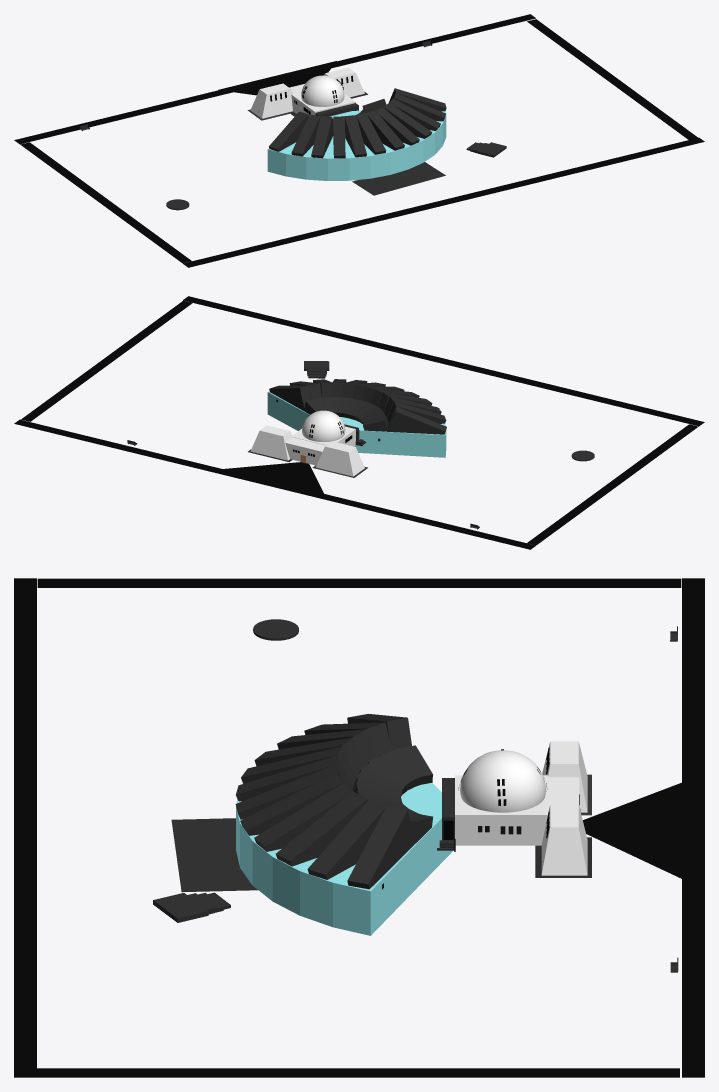
The model's file is asmundarsafn_cpy_to_test_4.obj.
The picture shows the model from 3 angles, top to bottom: view 1: azimuth 30°, elevation 25°; view 2: azimuth 150°, elevation 25°; view 3: azimuth 270°, elevation 25°; orthographic projection. The views are drawn at different scales.
Parts seen in each view (by area): view 1: syningarsalur, Plane.028, Plane.027, Plane.030, Plane.029, Plane.035, pavement, Sphere, h_hlid, Cube.033, Cube.039, Cube.030 (+11 smaller); view 2: Plane.028, syningarsalur, Plane.027, pavement, Plane.030, Plane.029, Cube.033, h_hlid, Sphere, v_hlid, Cube.031, adaldyr (+6 smaller); view 3: Plane.028, syningarsalur, Plane.027, pavement, Plane.030, Plane.029, Plane.035, Sphere, innanhus, Cube.031, v_hlid, Cube.036 (+14 smaller).
Part boxes in pixels (<box>): syningarsalur: <box>267,110,446,180</box>; Plane.028: <box>183,137,704,267</box>; Plane.027: <box>14,14,535,144</box>; Plane.030: <box>20,142,191,263</box>; Plane.029: <box>527,19,697,139</box>; Plane.035: <box>352,162,445,195</box>; pavement: <box>218,61,336,95</box>; Sphere: <box>301,75,344,106</box>; h_hlid: <box>250,83,292,118</box>; Cube.033: <box>269,111,308,151</box>; Cube.039: <box>291,114,320,156</box>; Cube.030: <box>311,116,333,158</box>; Plane.028: <box>183,296,704,426</box>; syningarsalur: <box>267,391,446,457</box>; Plane.027: <box>14,419,535,549</box>; pavement: <box>207,462,326,499</box>; Plane.030: <box>527,424,698,545</box>; Plane.029: <box>21,300,192,421</box>; Cube.033: <box>363,406,446,434</box>; h_hlid: <box>316,441,364,476</box>; Sphere: <box>302,410,345,441</box>; v_hlid: <box>250,425,292,460</box>; Cube.031: <box>269,385,321,414</box>; adaldyr: <box>285,437,325,465</box>; Plane.028: <box>14,578,36,1077</box>; syningarsalur: <box>236,783,452,935</box>; Plane.027: <box>682,578,704,1077</box>; pavement: <box>583,774,704,889</box>; Plane.030: <box>37,578,681,587</box>; Plane.029: <box>37,1068,679,1077</box>; Plane.035: <box>171,818,257,892</box>; Sphere: <box>460,750,545,812</box>; innanhus: <box>455,775,549,845</box>; Cube.031: <box>347,806,432,889</box>; v_hlid: <box>541,804,587,875</box>; Cube.036: <box>307,800,421,879</box>.
Size of the model in its own units: 103 by 9.3 by 60.12.
